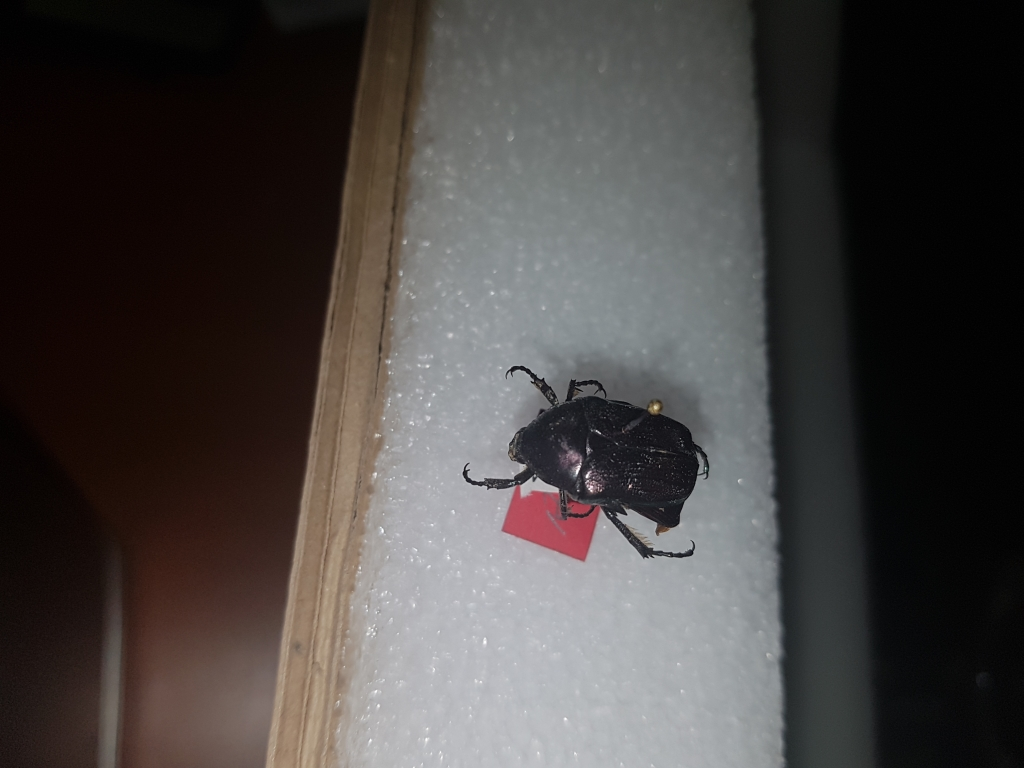Protaetia_besucheti: (459, 355, 719, 573)
